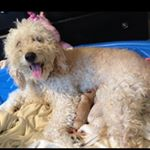puppy: (4, 18, 150, 148)
